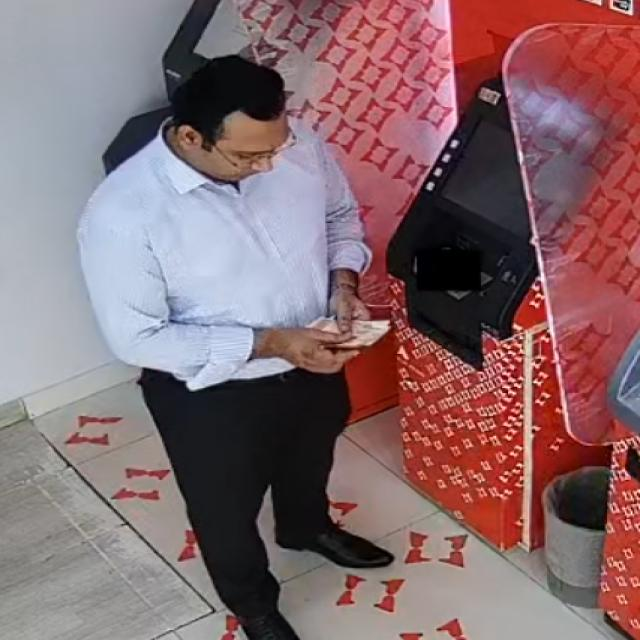note: (294, 304, 402, 356)
